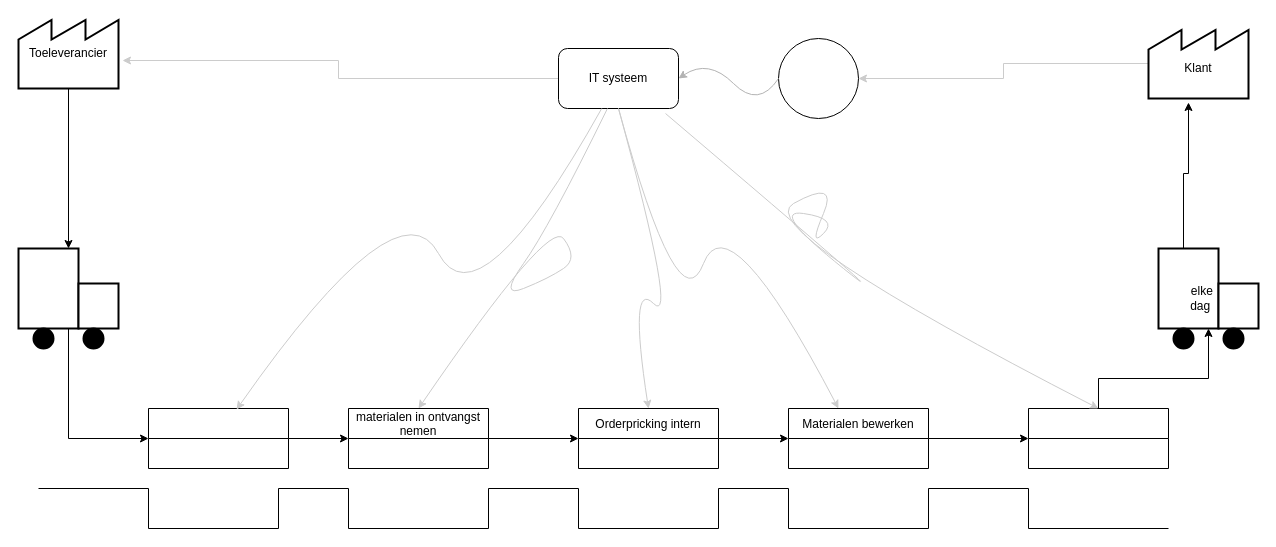
The diagram is 1276 pixels wide and 547 high, and some of its shapes have lost their labels. Here are the shapes that lost their labels. From the top down, the centre of each, then its label:
At pixel 818 78: "Order".
At pixel 68 298: "Elke ochtend".
At pixel 218 438: "Materialen inkopen".
At pixel 1098 438: "Materialen bij expeditie brengen".
